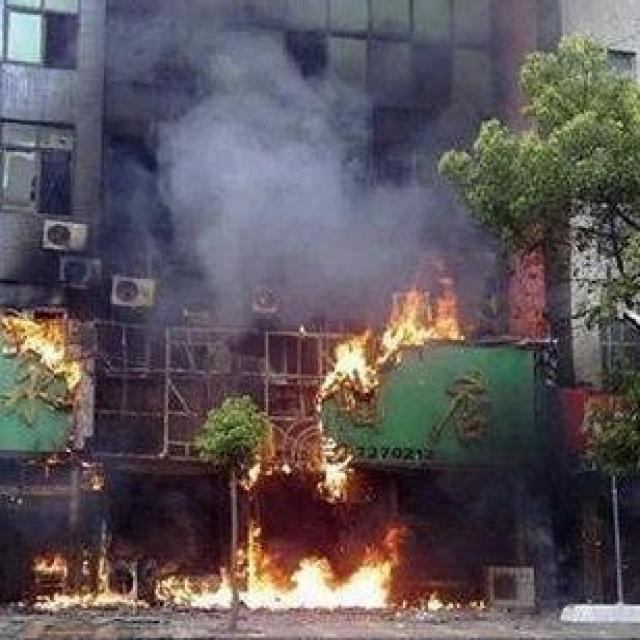Fire: (310, 287, 468, 505), (35, 520, 408, 612), (2, 317, 81, 391), (239, 456, 291, 492), (426, 590, 486, 612)
Smoke: (102, 2, 501, 351)
